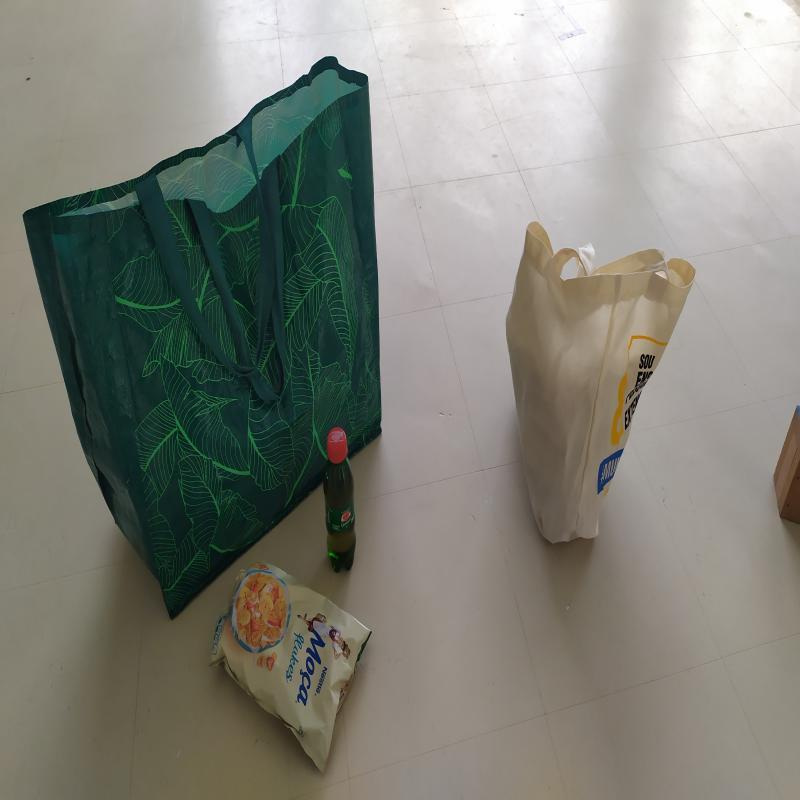Bag: (22, 48, 386, 630), (506, 225, 694, 557)
CornFlakes: (210, 564, 384, 778)
Guarana: (325, 425, 357, 570)
